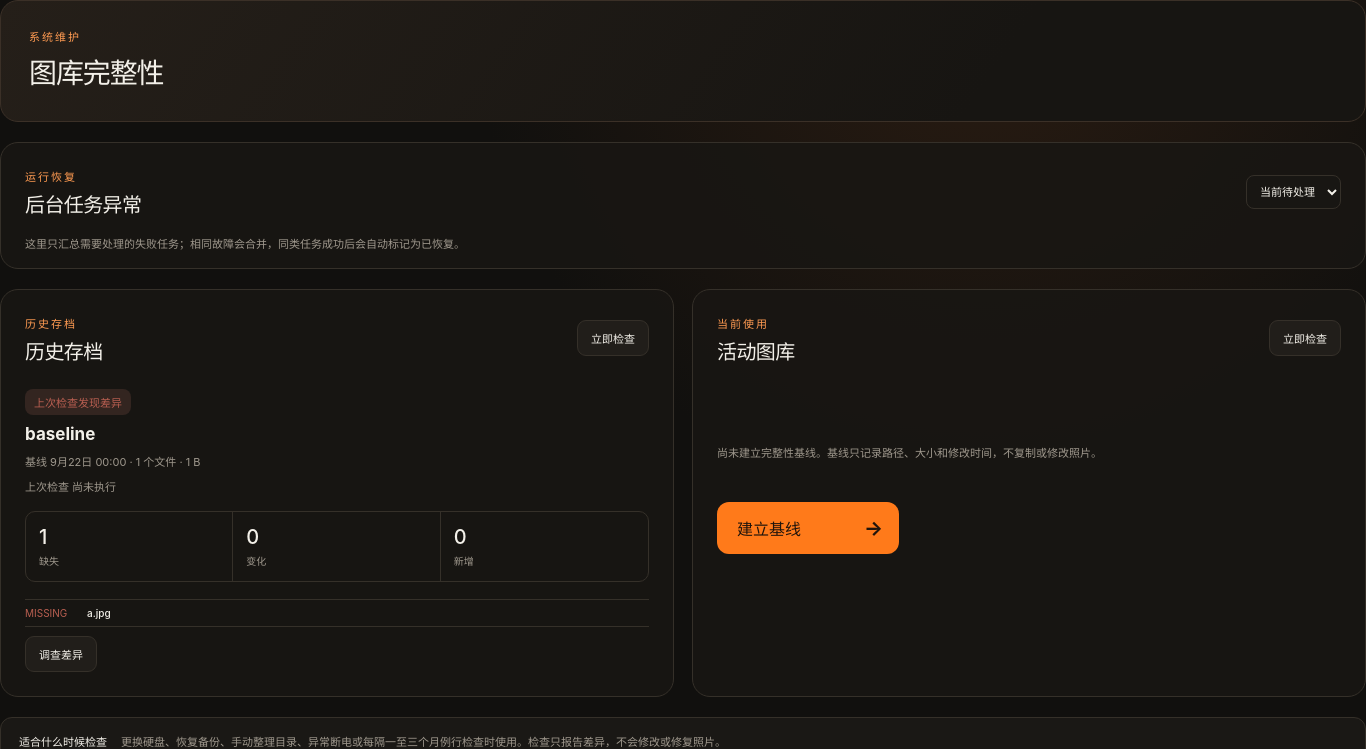
Test: does not replace a new incident filter with a late response
Select "全部状态" in the dropdown named "任务异常状态" at (1294, 192), box [1246, 174, 1341, 208]
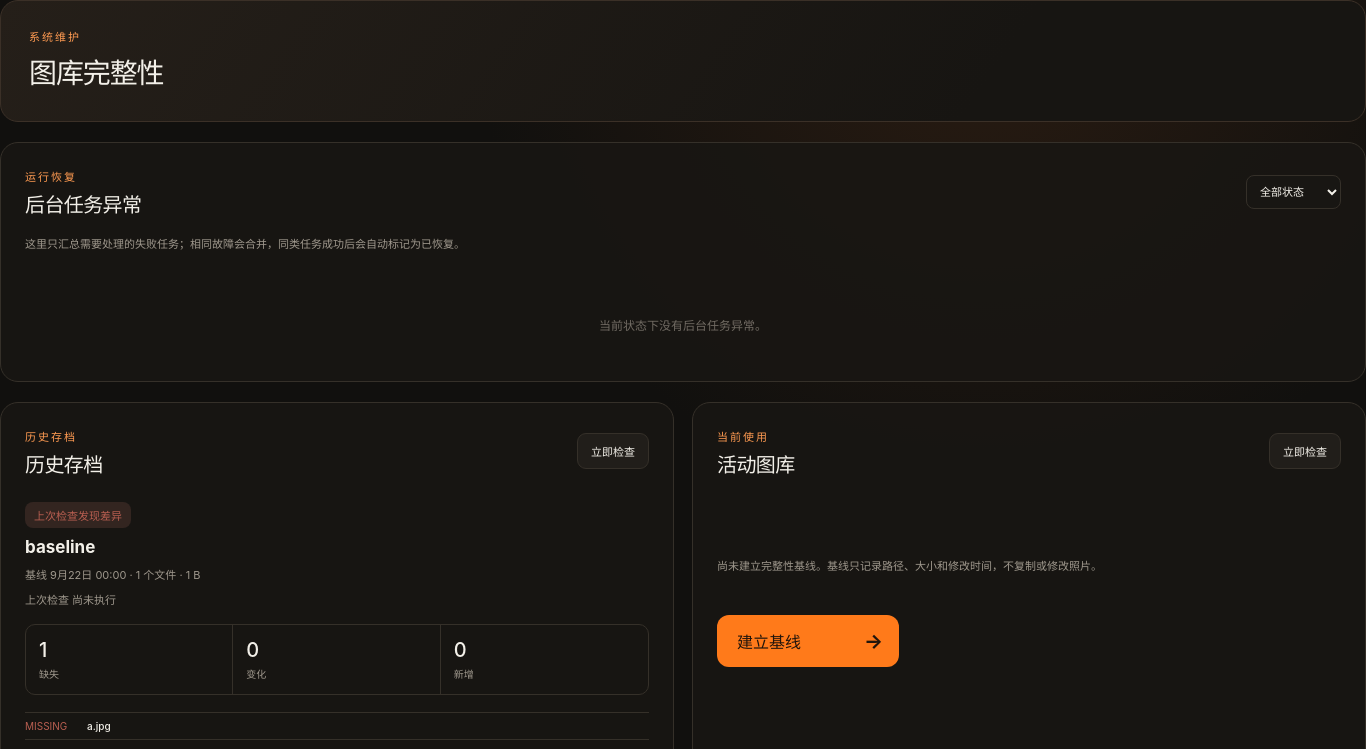
Expected: the text "当前状态下没有后台任务异常" is shown, [599, 318, 767, 333]
